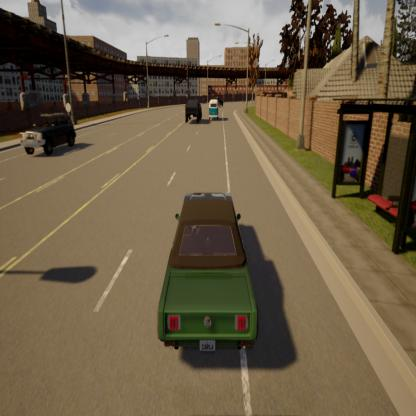Cars: (157, 194, 258, 355), (22, 117, 78, 157), (186, 96, 201, 124), (208, 95, 219, 122)
